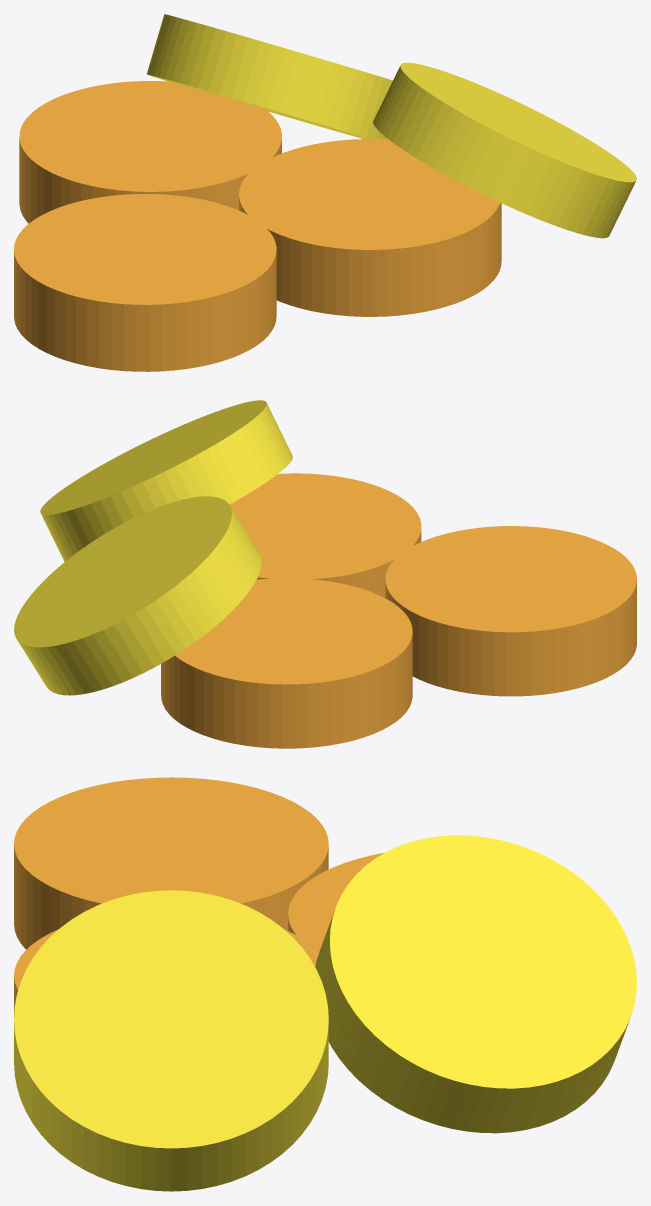
File: pcp.glb
The picture shows the model from 3 angles, top to bottom: view 1: azimuth 30°, elevation 25°; view 2: azimuth 150°, elevation 25°; view 3: azimuth 270°, elevation 25°; orthographic projection. The views are drawn at different scales.
Visible parts, largest first — view 1: Pastiglia_Top.001, Pastiglia_Top, Pastiglia_Top.002, Pastiglia_Bottom, Pastiglia_Bottom.001; view 2: Pastiglia_Top.001, Pastiglia_Top.002, Pastiglia_Bottom.001, Pastiglia_Bottom, Pastiglia_Top; view 3: Pastiglia_Bottom, Pastiglia_Bottom.001, Pastiglia_Top.001, Pastiglia_Top.002, Pastiglia_Top.
Boxes of the visible parts, x1,y1,x2,y2 form: Pastiglia_Top.001: [14, 194, 276, 371]; Pastiglia_Top: [239, 139, 501, 316]; Pastiglia_Top.002: [19, 81, 281, 223]; Pastiglia_Bottom: [373, 62, 636, 238]; Pastiglia_Bottom.001: [146, 14, 392, 139]; Pastiglia_Top.001: [385, 526, 636, 696]; Pastiglia_Top.002: [161, 578, 412, 748]; Pastiglia_Bottom.001: [14, 496, 261, 695]; Pastiglia_Bottom: [40, 400, 292, 561]; Pastiglia_Top: [229, 473, 421, 597]; Pastiglia_Bottom: [14, 890, 328, 1191]; Pastiglia_Bottom.001: [315, 835, 636, 1133]; Pastiglia_Top.001: [14, 777, 328, 949]; Pastiglia_Top.002: [288, 852, 384, 952]; Pastiglia_Top: [14, 929, 318, 1016].
Bounding box in the file's own units: 4.12 × 1.13 × 3.17.
